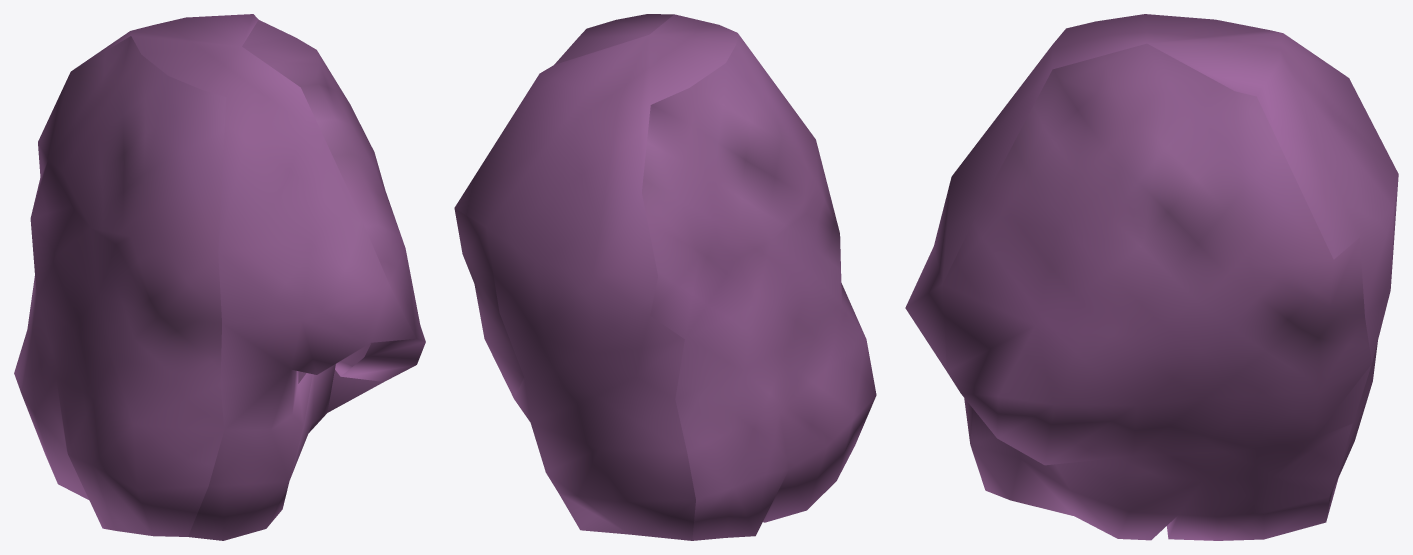
The model's file is RHand.fbx.
3 renders of one model, left to right at view 1: azimuth 30°, elevation 25°; view 2: azimuth 150°, elevation 25°; view 3: azimuth 270°, elevation 25°, orthographic. The views are drawn at different scales.
Visible parts, largest first — view 1: RHand; view 2: RHand; view 3: RHand.
Boxes of the visible parts, left/top/right/bottom form: RHand: left=14, top=14, right=425, bottom=540; RHand: left=454, top=14, right=876, bottom=540; RHand: left=905, top=14, right=1398, bottom=540.
Size of the model in its own units: 9.72 by 13.91 by 12.1.
Materials: 1 (1 with a texture image).
